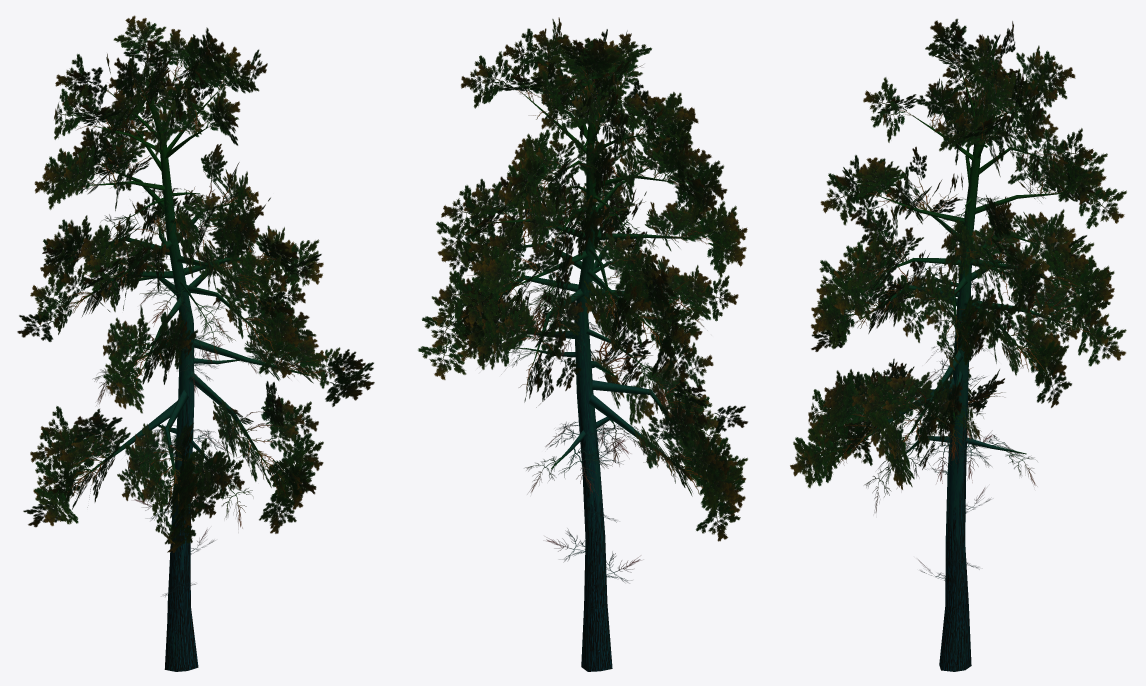
The model's file is Scoth_Pine_A.glb.
3 renders of one model, left to right at view 1: azimuth 30°, elevation 25°; view 2: azimuth 150°, elevation 25°; view 3: azimuth 270°, elevation 25°, orthographic. The views are drawn at different scales.
Parts seen in each view (by area): view 1: A_LOD0; view 2: A_LOD0; view 3: A_LOD0.
Boxes of the visible parts, x1,y1,x2,y2 form: A_LOD0: [17, 15, 374, 671]; A_LOD0: [418, 17, 747, 671]; A_LOD0: [790, 18, 1126, 671].
Size of what is drawn, in the model's own units: 15.96 by 30.52 by 15.14.
3 materials, 3 textured.
